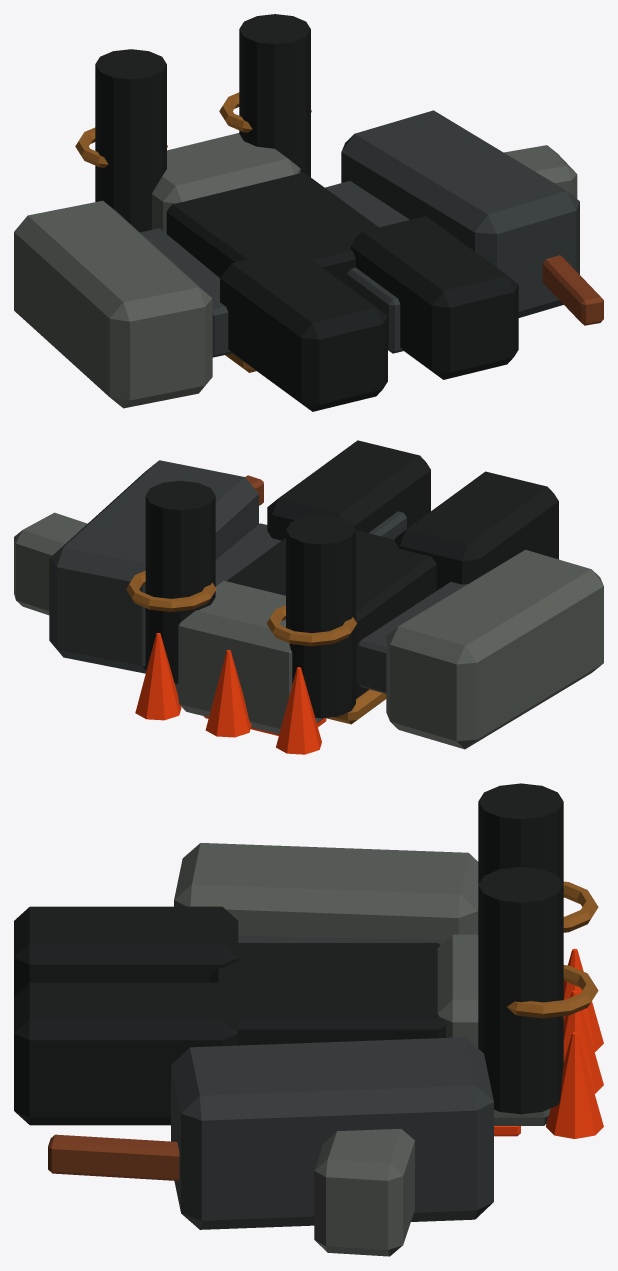
Rendered from BelforgeColossus.glb.
The picture shows the model from 3 angles, top to bottom: view 1: azimuth 30°, elevation 25°; view 2: azimuth 150°, elevation 25°; view 3: azimuth 270°, elevation 25°; orthographic projection. The views are drawn at different scales.
Visible parts, largest first — view 1: LeftArm.001, RightArm.001, LeftLeg.001, RightLeg.001, Body, BackStackL, BackStackR, CrownHelm, LeftArm, ColossusHammerShaft, RightLeg, ColossusHammerHead (+3 smaller); view 2: LeftArm.001, RightArm.001, CrownHelm, BackStackL, LeftLeg.001, RightLeg.001, BackStackR, Body, ColossusHammerHead, LeftArm, CrownFlame1, CrownFlame3 (+6 smaller); view 3: RightArm.001, RightLeg.001, LeftArm.001, Body, BackStackR, LeftLeg.001, ColossusHammerHead, BackStackL, ColossusHammerShaft, CrownHelm, CrownFlame3, StackBandR (+4 smaller).
Boxes of the visible parts, box(x1,y1,x2,y2) form: LeftArm.001: box(14, 200, 212, 408); RightArm.001: box(341, 110, 579, 317); LeftLeg.001: box(220, 248, 387, 411); RightLeg.001: box(350, 216, 518, 379); Body: box(166, 172, 378, 285); BackStackL: box(95, 49, 166, 232); BackStackR: box(239, 14, 310, 177); CrownHelm: box(152, 133, 300, 233); LeftArm: box(140, 228, 232, 357); ColossusHammerShaft: box(542, 255, 603, 325); RightLeg: box(346, 267, 403, 353); ColossusHammerHead: box(504, 145, 577, 198); LeftArm.001: box(386, 549, 603, 749); RightArm.001: box(49, 460, 258, 673); CrownHelm: box(175, 581, 323, 734); BackStackL: box(286, 515, 355, 718); LeftLeg.001: box(395, 471, 558, 590); RightLeg.001: box(267, 440, 430, 540); BackStackR: box(145, 480, 215, 683); Body: box(226, 530, 436, 698); ColossusHammerHead: box(14, 512, 87, 615); LeftArm: box(357, 582, 468, 693); CrownFlame1: box(276, 667, 321, 754); CrownFlame3: box(135, 633, 181, 720); RightArm.001: box(171, 1037, 493, 1229); RightLeg.001: box(14, 982, 238, 1125); LeftArm.001: box(174, 843, 478, 942); Body: box(210, 943, 445, 1045); BackStackR: box(478, 867, 563, 1114); LeftLeg.001: box(14, 906, 238, 996); ColossusHammerHead: box(314, 1128, 414, 1256); BackStackL: box(478, 783, 563, 884); ColossusHammerShaft: box(48, 1134, 179, 1180); CrownHelm: box(437, 934, 550, 1125); CrownFlame3: box(545, 1032, 603, 1138); StackBandR: box(507, 965, 598, 1018).
Size of the model in its own units: 16.08 by 7.03 by 13.15.
1 material, 1 textured.
